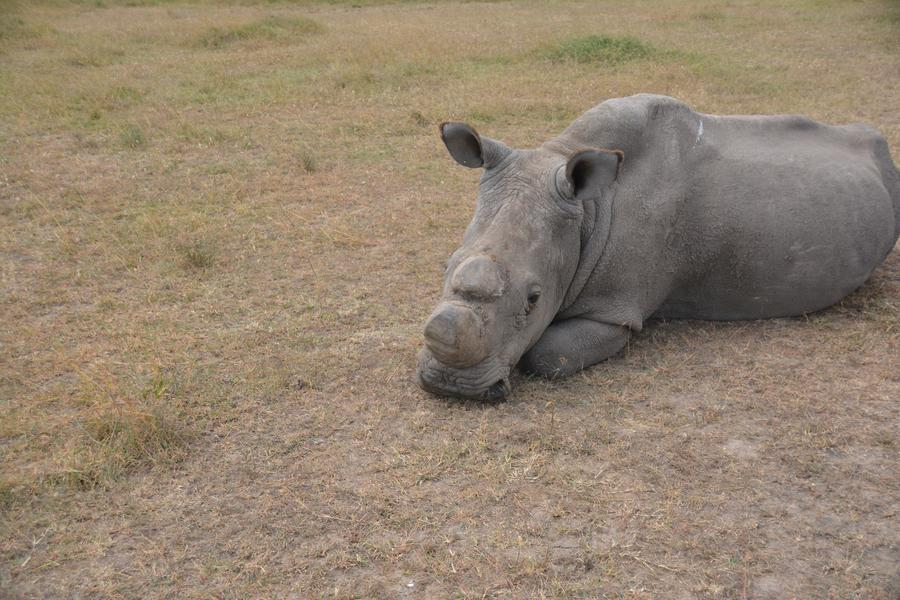rhino: (436, 86, 885, 400)
